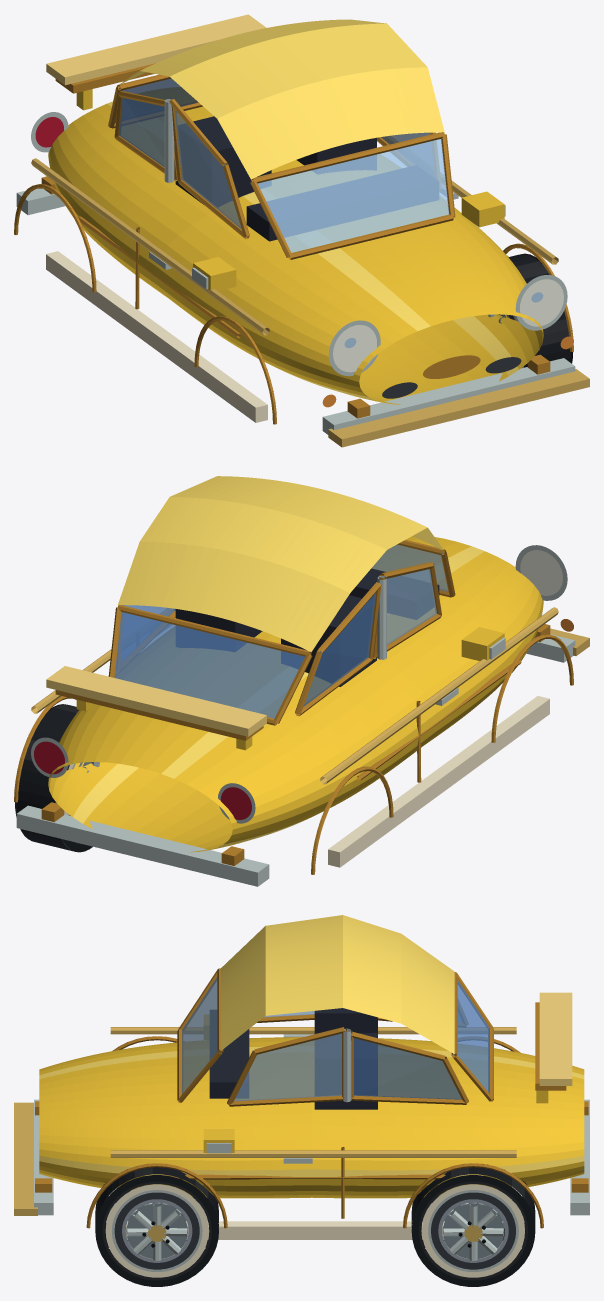
The model's file is yellow_beetle_complete_royal.obj.
3 views of the same model, one above another, from view 1: azimuth 30°, elevation 25°; view 2: azimuth 150°, elevation 25°; view 3: azimuth 270°, elevation 25° (orthographic). The views are drawn at different scales.
Visible parts, largest first — view 1: SCULPTED_MAIN_BODY, BUBBLE_ROOF, WINDSHIELD, DASHBOARD, ROYAL_SIDE, SEATS, ROYAL_BUMPER, ROYAL_WING, GLASS_SEALS, CHROME_BUMPERS, ROUND_HEADLAMPS, DRIVER_WINDOW (+14 smaller); view 2: SCULPTED_MAIN_BODY, BUBBLE_ROOF, REAR_WINDOW, CHROME_BUMPERS, ROYAL_SIDE, ROYAL_WING, SEATS, REAR_SIDE_WINDOW, GLASS_TRIM, GLASS_SEALS, ROYAL_TRIM, WHEEL_TREAD (+11 smaller); view 3: SCULPTED_MAIN_BODY, BUBBLE_ROOF, WHEEL_SIDE, DRIVER_WINDOW, ROYAL_TRIM, SEATS, REAR_SIDE_WINDOW, GLASS_TRIM, ROYAL_SIDE, WHEEL_DISC, ROYAL_WING, ALLOY_SPOKES (+13 smaller).
Part boxes in pixels (<box>): SCULPTED_MAIN_BODY: <box>48,87,543,404</box>; BUBBLE_ROOF: <box>119,19,444,179</box>; WINDSHIELD: <box>258,139,449,252</box>; DASHBOARD: <box>246,165,438,241</box>; ROYAL_SIDE: <box>46,251,267,422</box>; SEATS: <box>175,116,376,206</box>; ROYAL_BUMPER: <box>328,369,589,447</box>; ROYAL_WING: <box>46,14,266,85</box>; GLASS_SEALS: <box>108,74,455,259</box>; CHROME_BUMPERS: <box>16,188,575,434</box>; ROUND_HEADLAMPS: <box>328,275,567,376</box>; DRIVER_WINDOW: <box>174,109,433,229</box>; SCULPTED_MAIN_BODY: <box>48,536,543,852</box>; BUBBLE_ROOF: <box>118,476,444,652</box>; REAR_WINDOW: <box>114,612,304,722</box>; CHROME_BUMPERS: <box>16,634,575,886</box>; ROYAL_SIDE: <box>328,696,549,867</box>; ROYAL_WING: <box>46,666,266,736</box>; SEATS: <box>175,595,376,686</box>; REAR_SIDE_WINDOW: <box>121,592,375,706</box>; GLASS_TRIM: <box>116,562,441,716</box>; GLASS_SEALS: <box>108,539,455,725</box>; ROYAL_TRIM: <box>31,607,558,784</box>; WHEEL_TREAD: <box>16,704,78,851</box>; SCULPTED_MAIN_BODY: <box>39,1037,584,1198</box>; BUBBLE_ROOF: <box>220,915,454,1053</box>; WHEEL_SIDE: <box>95,1175,535,1286</box>; DRIVER_WINDOW: <box>234,1011,344,1101</box>; ROYAL_TRIM: <box>110,1027,516,1157</box>; SEATS: <box>314,1008,377,1109</box>; REAR_SIDE_WINDOW: <box>351,1014,461,1099</box>; GLASS_TRIM: <box>227,1000,468,1106</box>; ROYAL_SIDE: <box>125,1221,444,1239</box>; WHEEL_DISC: <box>126,1203,504,1258</box>; ROYAL_WING: <box>539,992,572,1085</box>; ALLOY_SPOKES: <box>127,1202,503,1260</box>.
Bounding box in the file's own units: 1.85 × 1.74 × 3.35.
